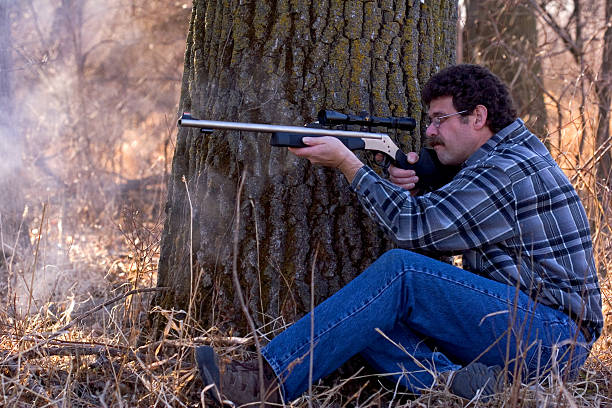gun: (178, 107, 460, 186)
